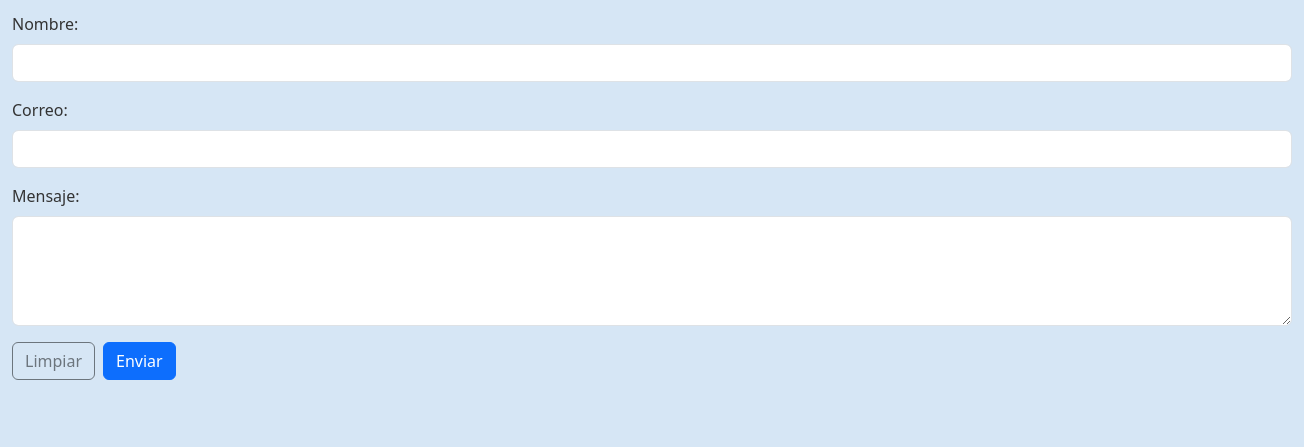
Test: FormularioContacto › Limpiar borra campos, errores y resultado
This screenshot has width=1304, height=447.
In the field labelled "Nombre:": (652, 63) [12, 44, 1292, 82], type "Ana"
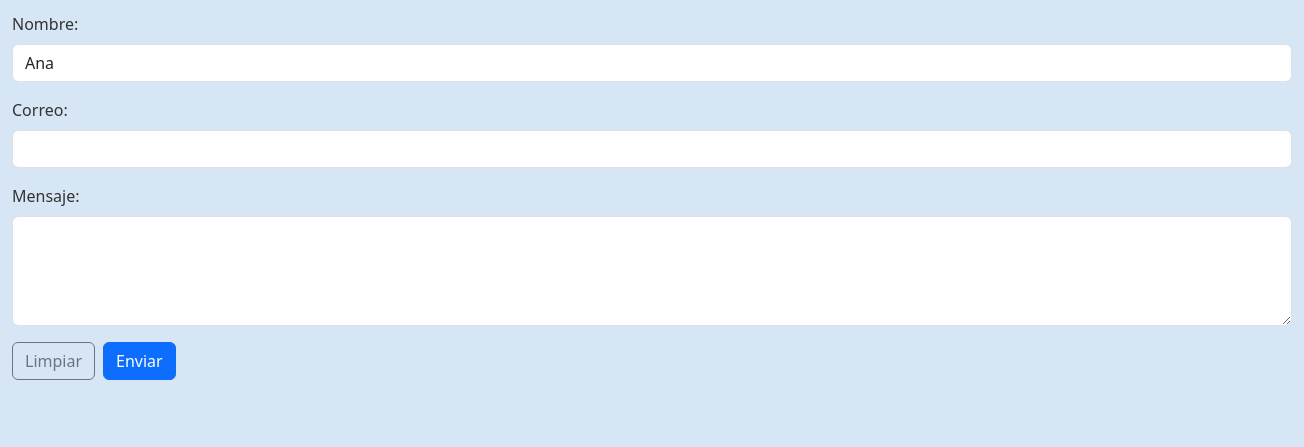
Click the button "Enviar": (139, 361) [103, 342, 176, 380]
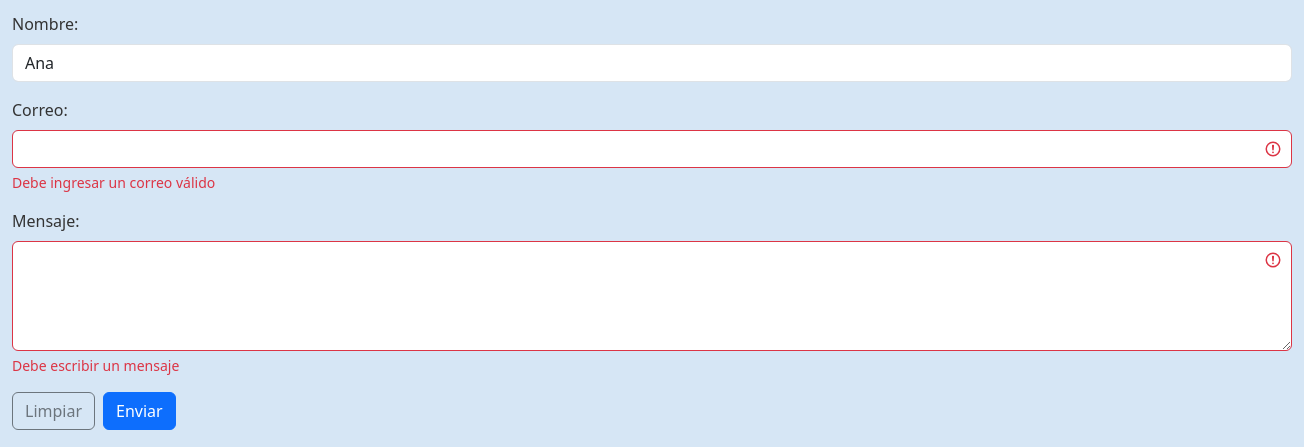
Click the button "Limpiar": (54, 411) [12, 392, 95, 430]
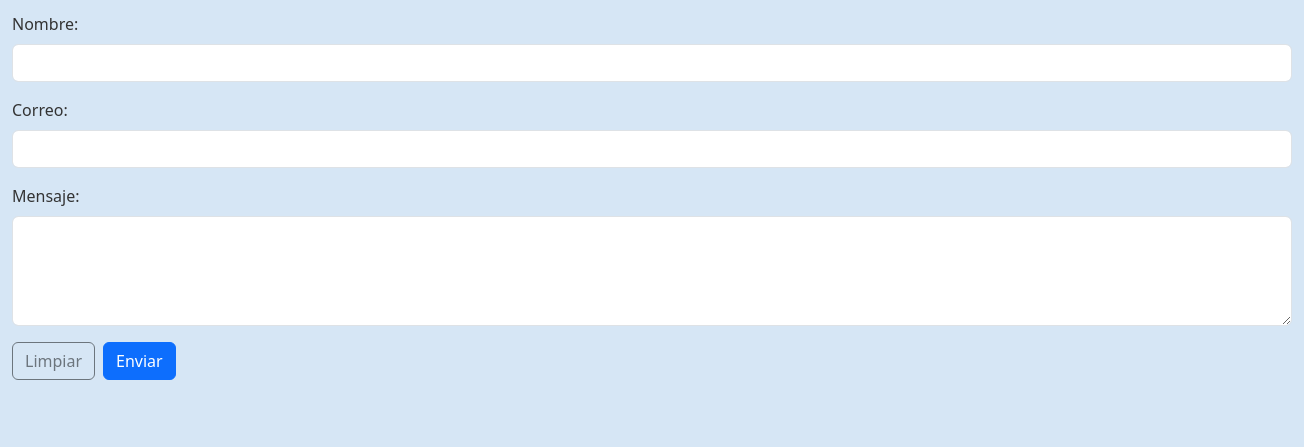
Expected: the field labelled "Nombre:" is empty, [12, 44, 1292, 82]
